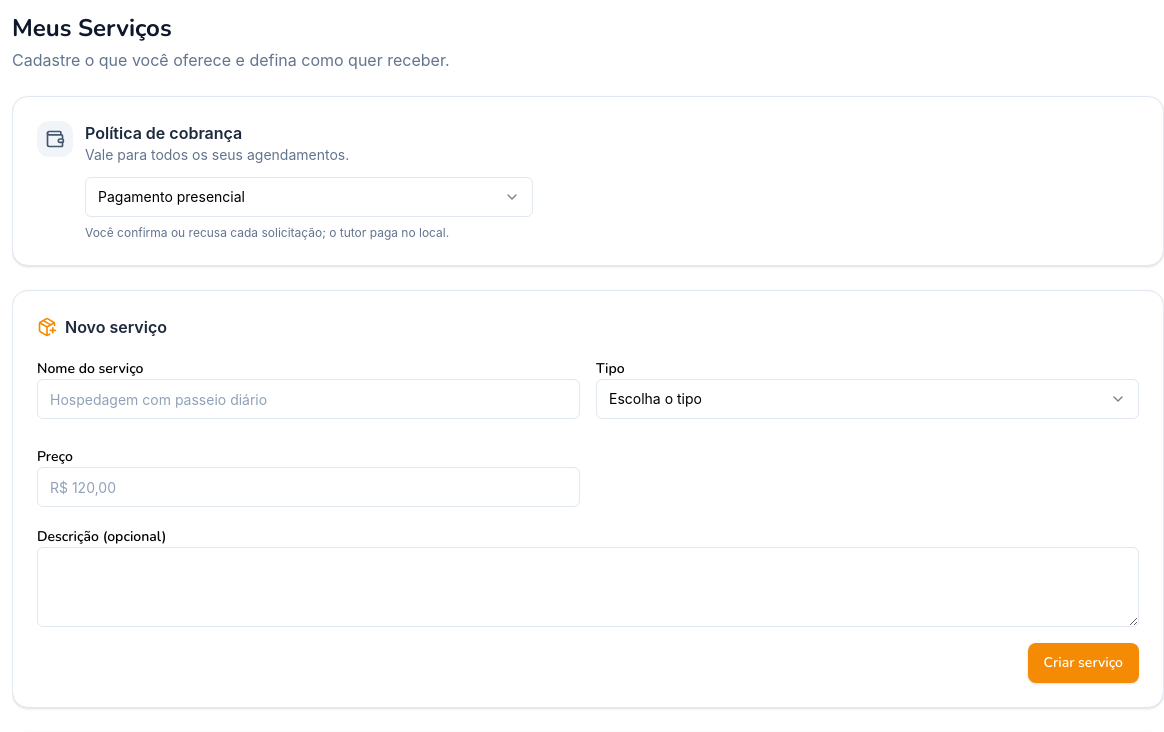
Test: bloqueia criação com nome vazio e preço não-positivo
Type "0" into the field labelled "Preço" at x=308, y=487, box 37,467 -> 580,507
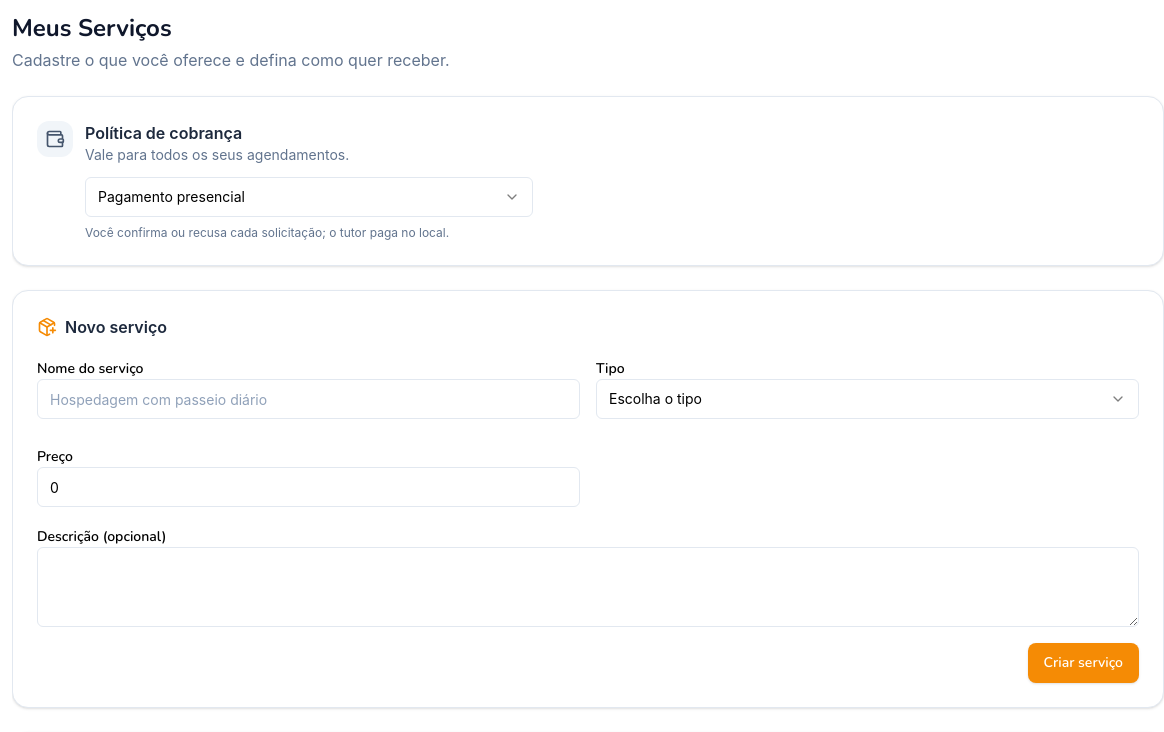
Click the button "Criar serviço" at x=1083, y=663, box 1028,643 -> 1139,683
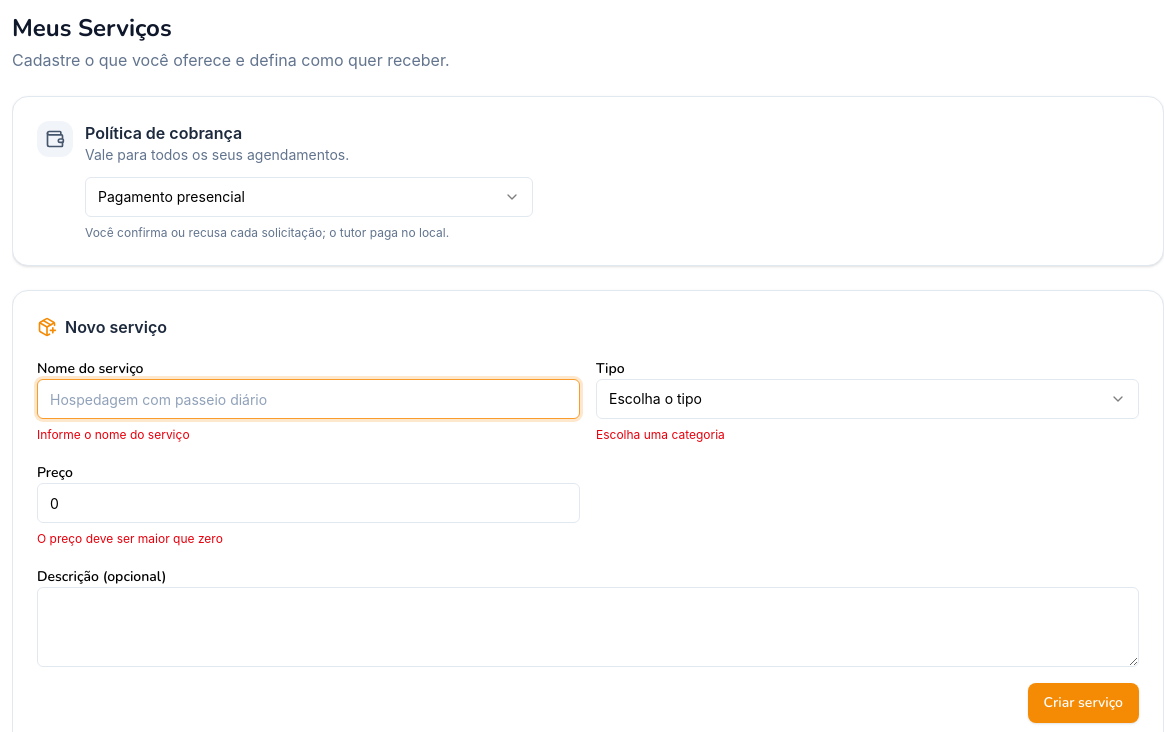
Now the text "Informe o nome do serviço" is shown, box 37,427 -> 190,442
Now the text "O preço deve ser maior que zero" is shown, box 37,531 -> 223,546
